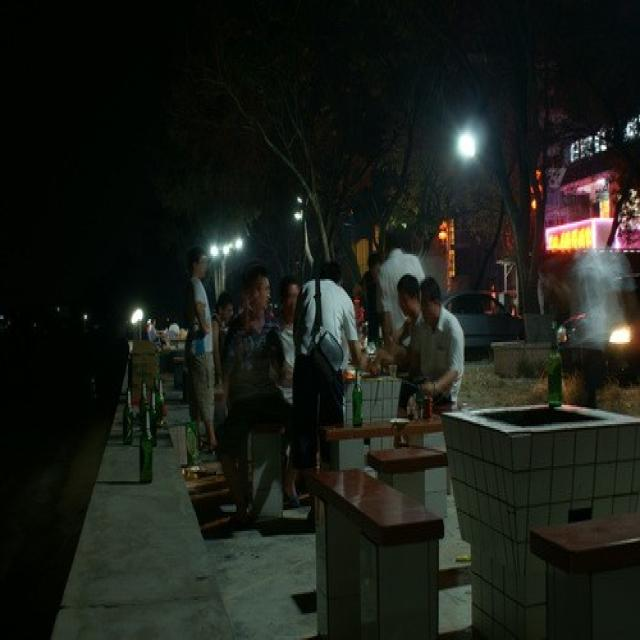Bottle: (538, 339, 586, 451), (114, 363, 150, 451), (340, 341, 371, 440), (127, 402, 159, 479)
People: (169, 238, 240, 465), (279, 228, 337, 462), (228, 244, 286, 470), (402, 281, 468, 442), (369, 205, 419, 322)
chair: (292, 460, 449, 640), (513, 500, 640, 621)
